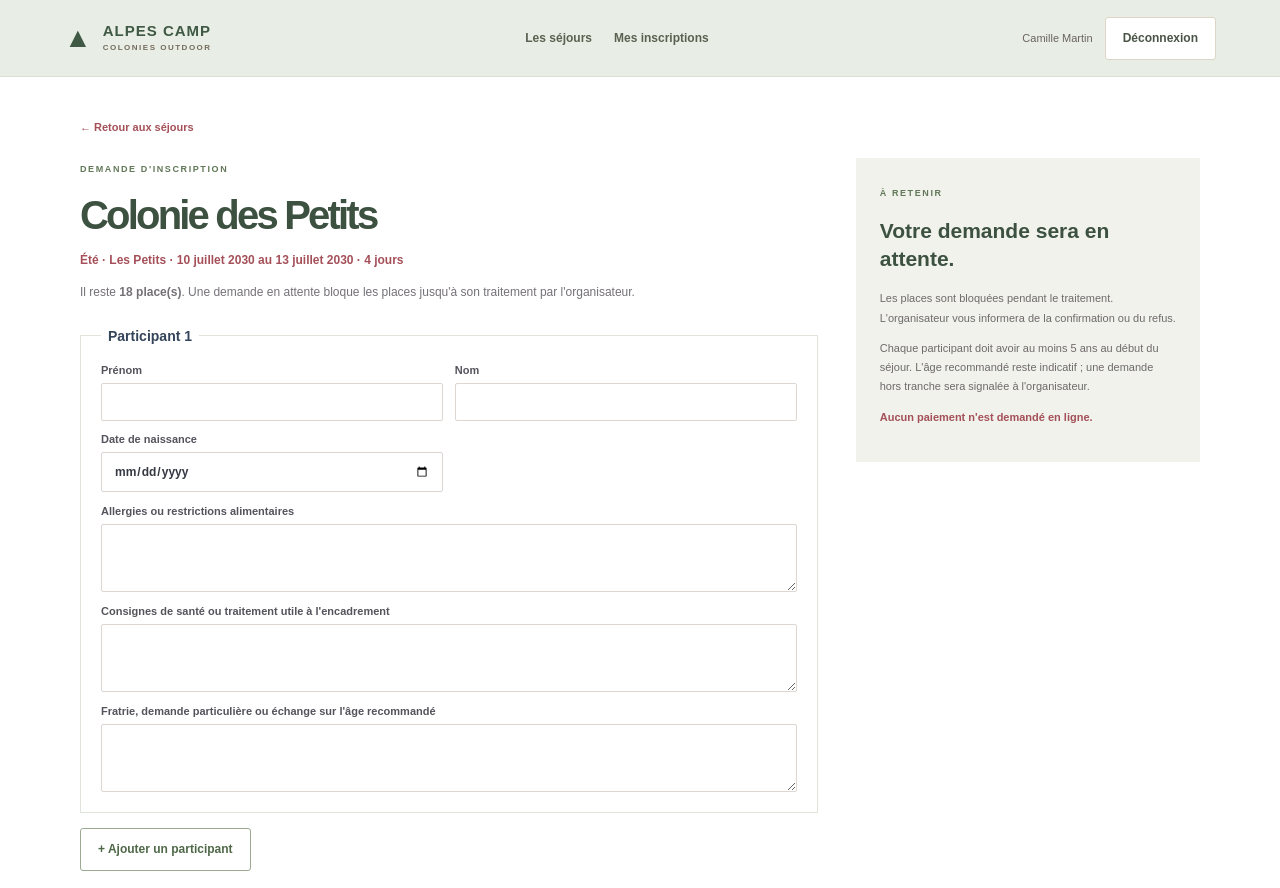
Test: application Alpes Camp › refuse un participant qui aura moins de 5 ans au début du séjour
Expected: the heading "Colonie des Petits" is shown, left=80, top=193, right=376, bottom=237
Type "Lou" into the field labelled "Prénom" at [272, 402], box left=101, top=383, right=443, bottom=421
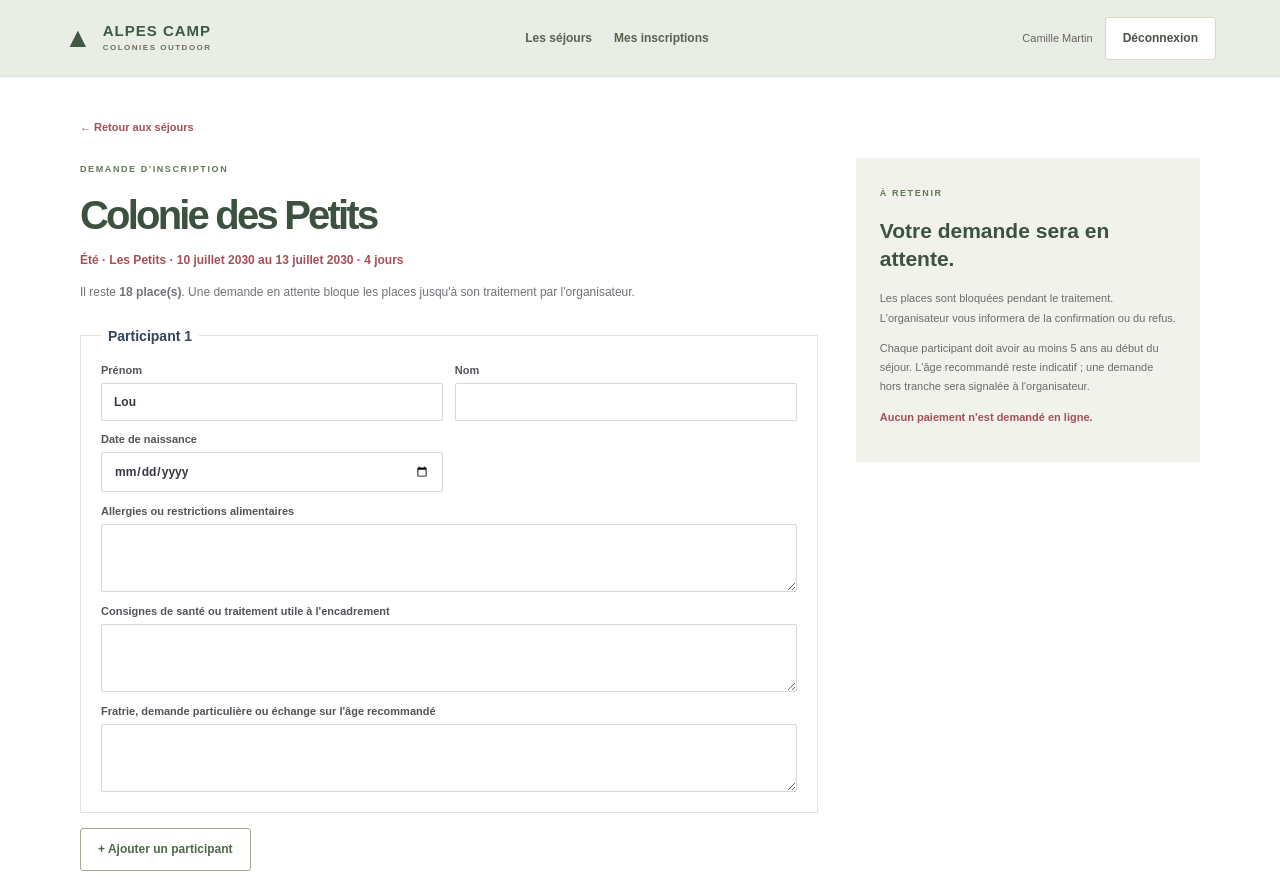
Type "Martin" into the field labelled "Nom" at [626, 402], box left=455, top=383, right=797, bottom=421
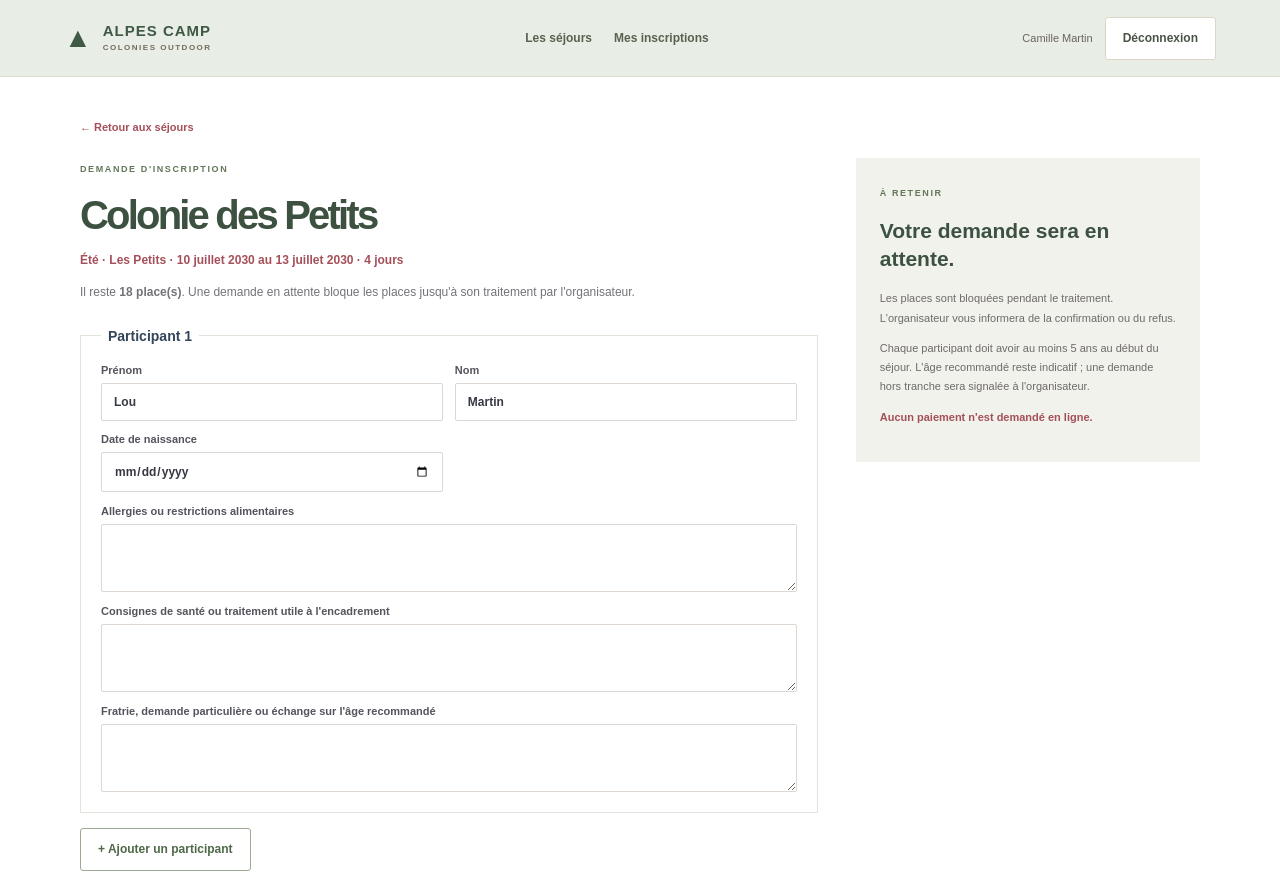
Type "2026-07-11" into the date field labelled "Date de naissance" at [272, 472], box left=101, top=452, right=443, bottom=492
(page scrolled)
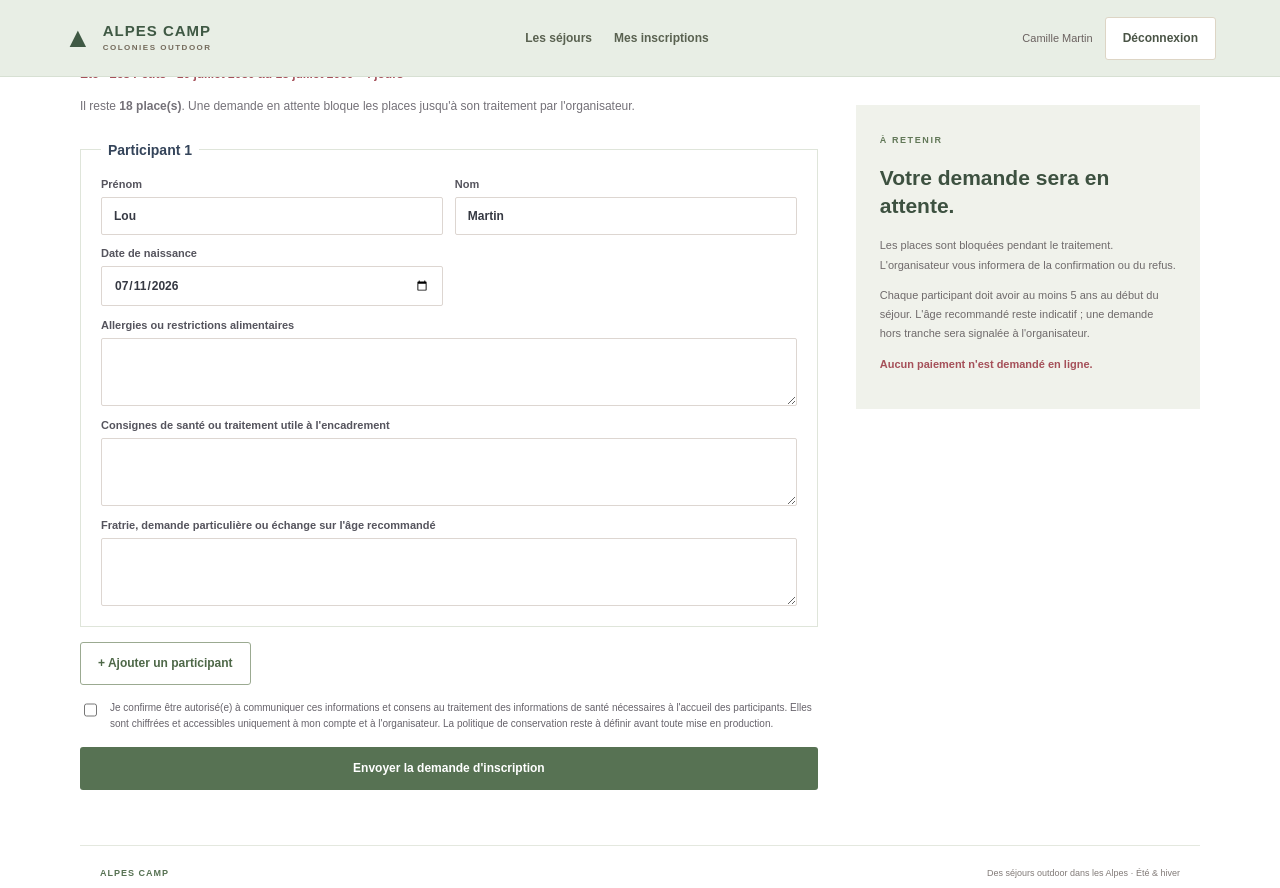
Click the checkbox at [90, 710], box left=84, top=702, right=97, bottom=718
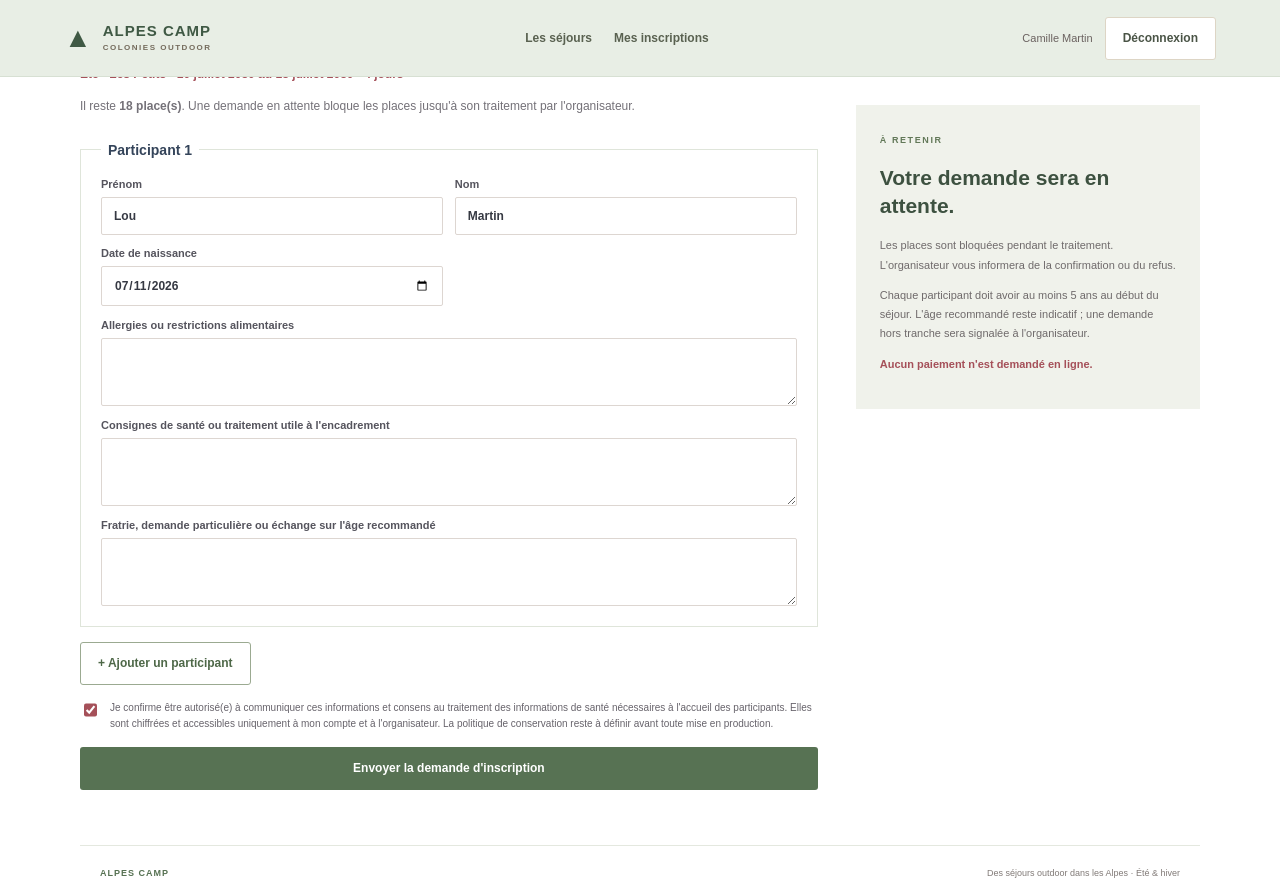
Submit the form with class "camp-enrollment-form", box left=80, top=142, right=818, bottom=790
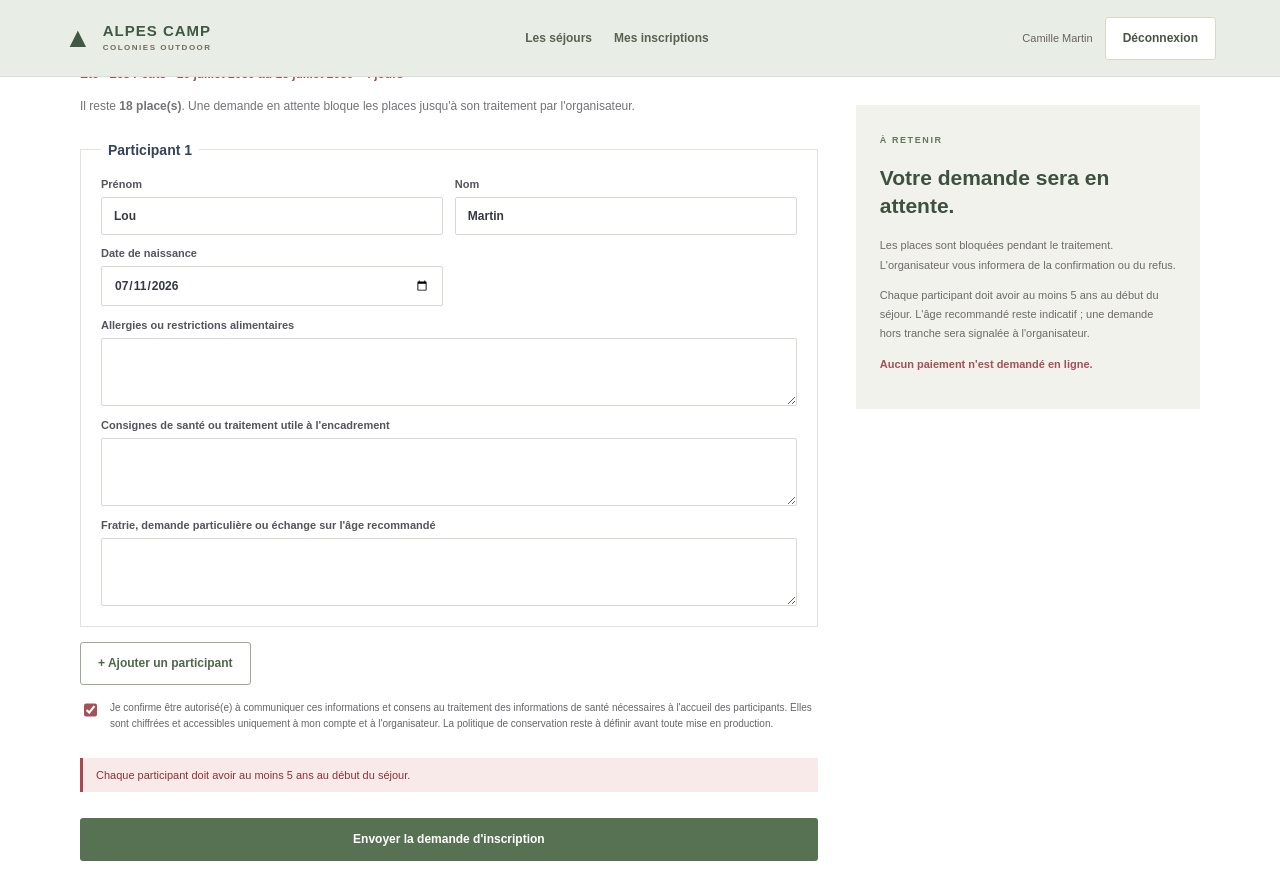
Expected: the text "Chaque participant doit avoir au moins 5 ans au début du séjour." is shown, left=80, top=758, right=818, bottom=792
